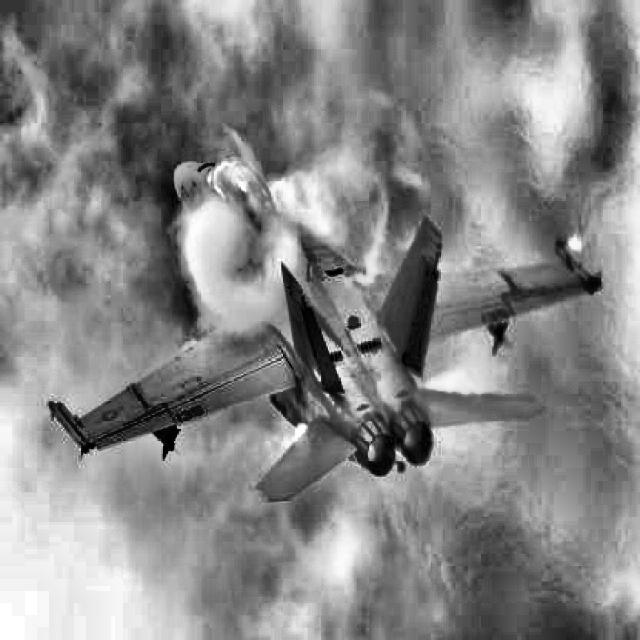F18: (48, 156, 602, 502)
